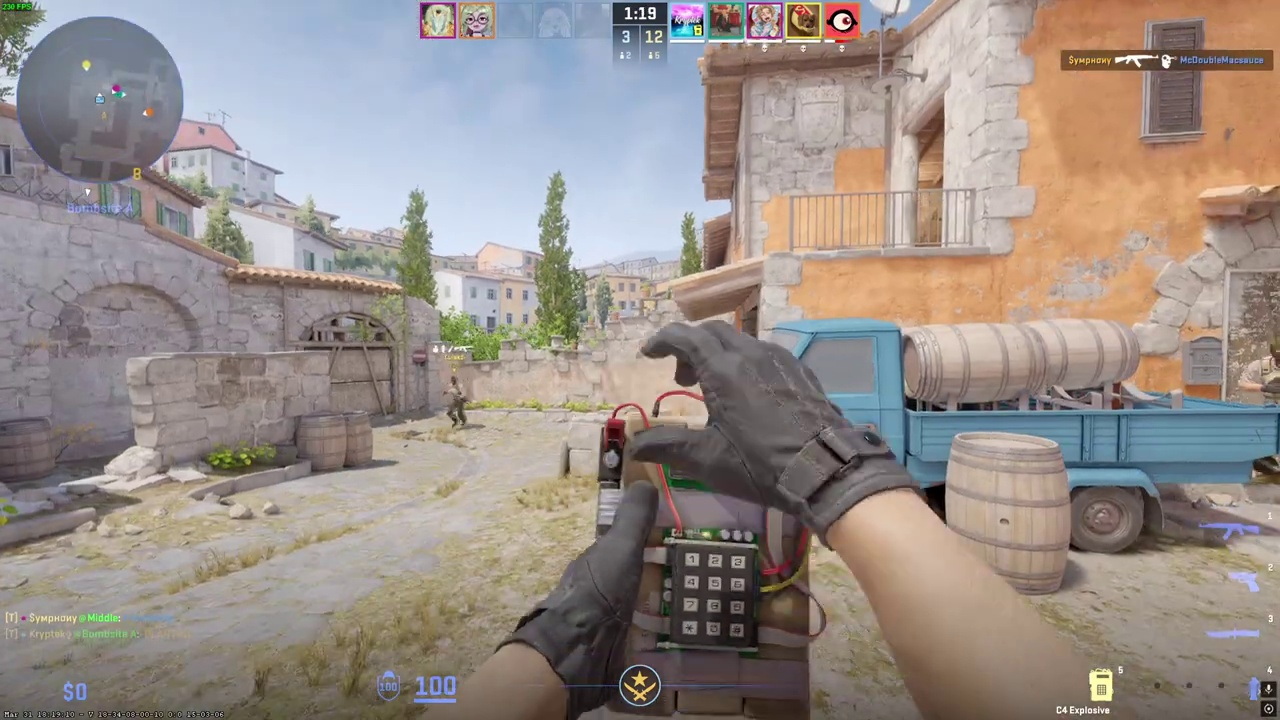Terrorist: (445, 376, 467, 429)
